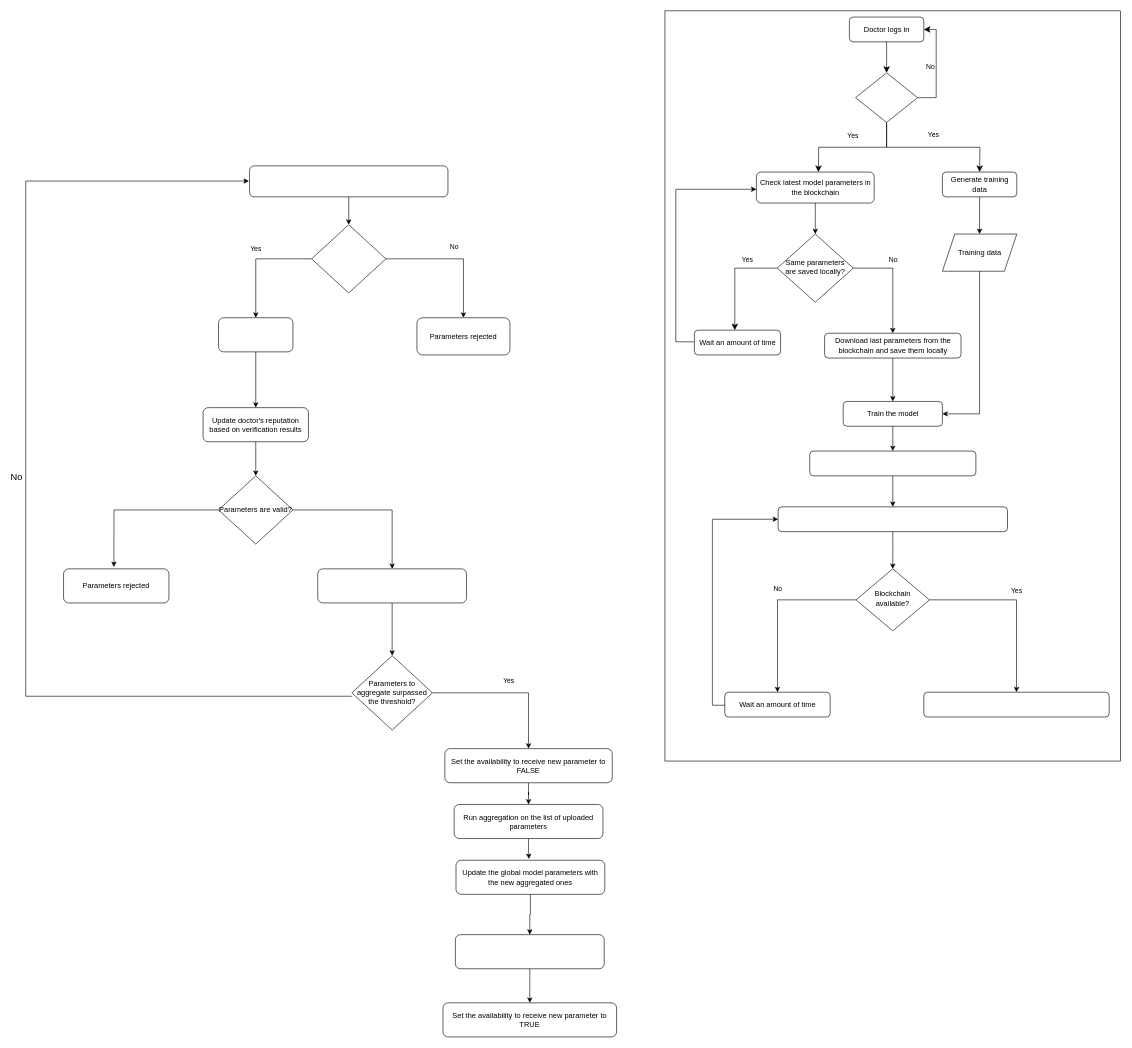
Image size: 1132x1048. Some labels were removed from this diagram. Each missing label, with the box of its shape:
Add parameters to the list of parameters used for aggregation: (317, 568, 467, 603)
Check if the blockchain is ready to receive new parameters: (777, 506, 1008, 532)
Log in successful?: (855, 72, 918, 122)
Prepare the new training paramters with the signature: (809, 450, 976, 476)
Remove all the used parameters: (455, 934, 604, 969)
Signature verified?: (311, 224, 386, 293)
Upload the trained parameters with the signature: (923, 692, 1109, 717)
Verify uploaded parameters signature: (249, 165, 448, 197)
Verify validity of parameters: (218, 317, 293, 352)
